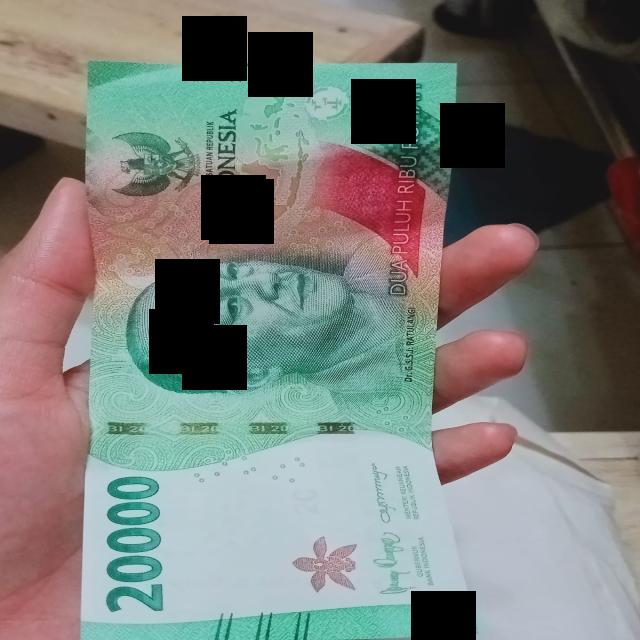dua puluh ribu rupiah: (82, 61, 475, 639)
